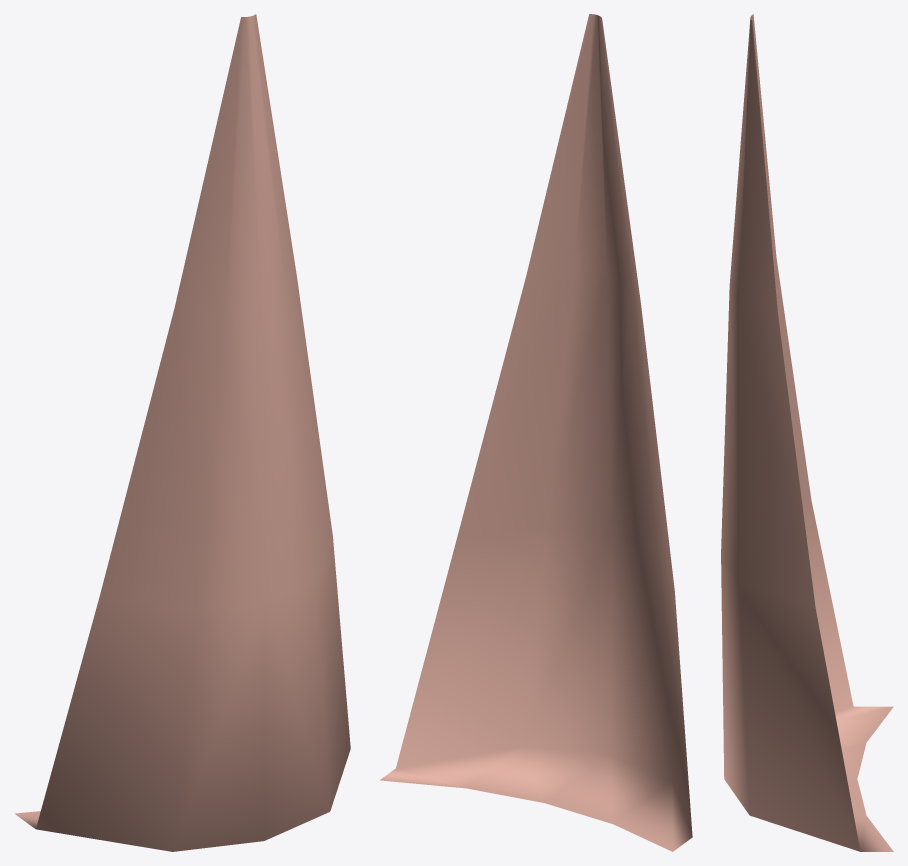
The picture shows the model from 3 angles, left to right: view 1: azimuth 30°, elevation 25°; view 2: azimuth 150°, elevation 25°; view 3: azimuth 270°, elevation 25°; orthographic projection. The views are drawn at different scales.
Visible parts, largest first — view 1: polySurface5; view 2: polySurface5; view 3: polySurface5.
Part boxes in pixels (box(x1,y1,x2,y2)): polySurface5: box(14, 14, 350, 851); polySurface5: box(380, 14, 692, 851); polySurface5: box(721, 14, 893, 851).
Bounding box in the file's own units: 0.0548 × 0.1338 × 0.0275.
